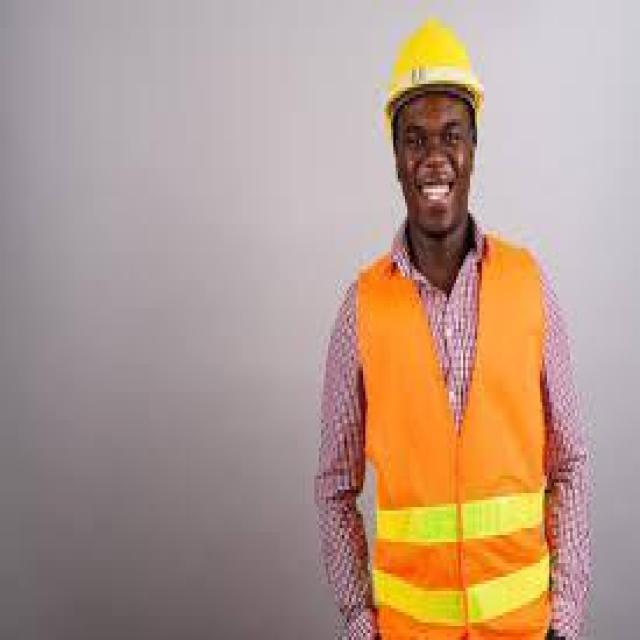helmet: (384, 17, 484, 119)
